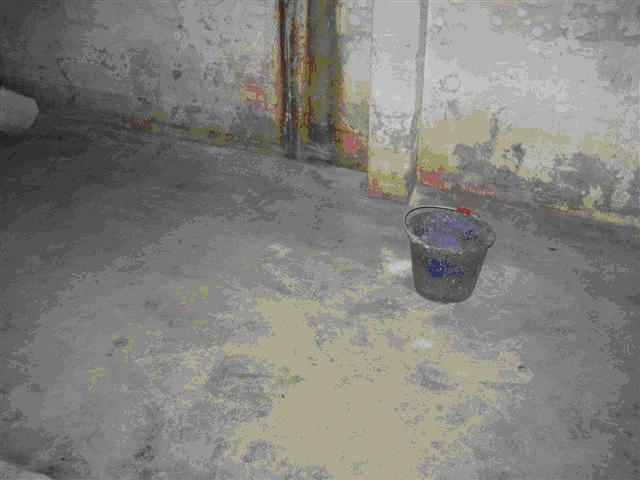bucket: (402, 202, 500, 302)
